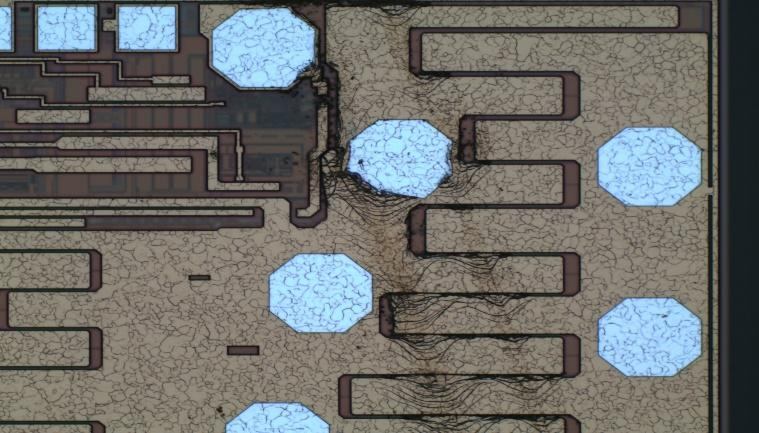SCRATCH: (243, 1, 593, 433)
